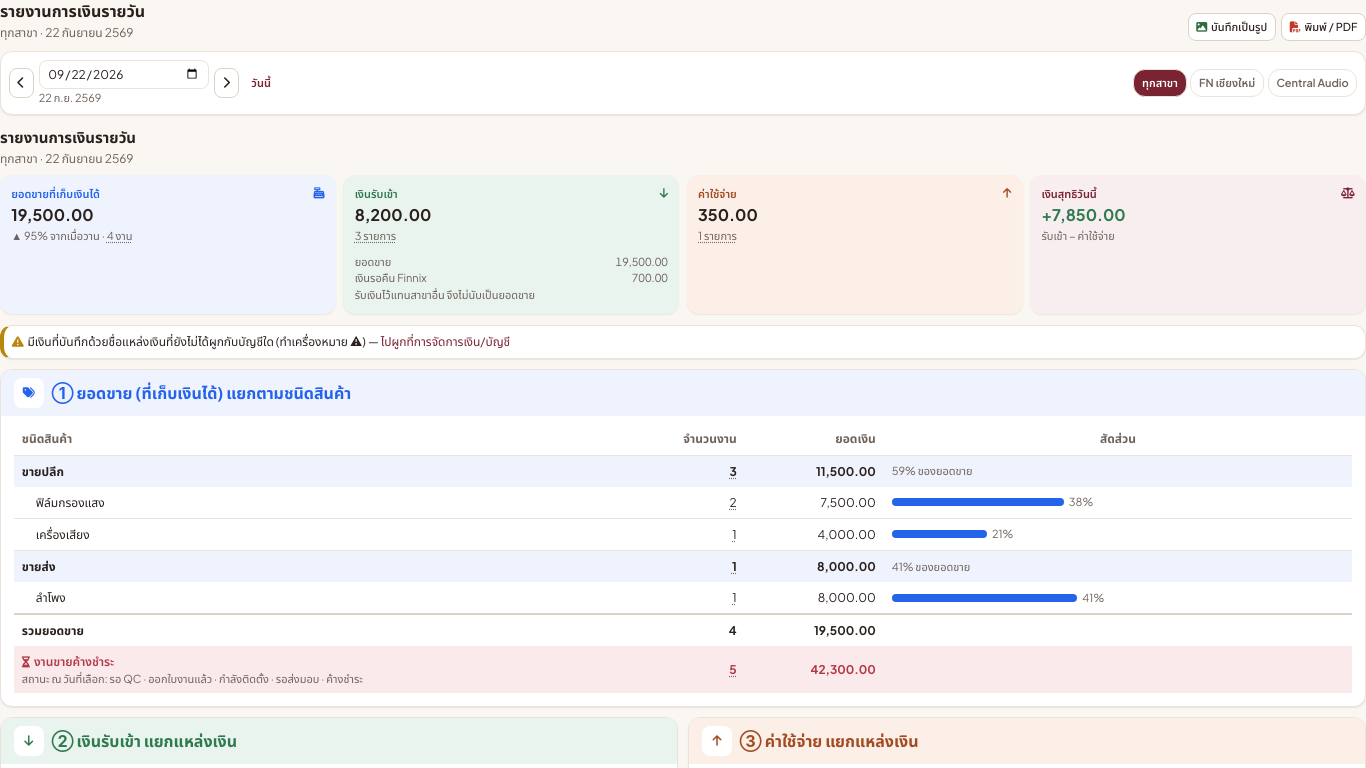
Test: DailyReportView — ที่มาของจำนวน › ป๊อปอัพไม่ติดไปในรูปที่แคป
The width and height of the screenshot is (1366, 768).
Click the button with aria-label "ดูที่มาของ4 งาน": (120, 236) [107,228,133,244]
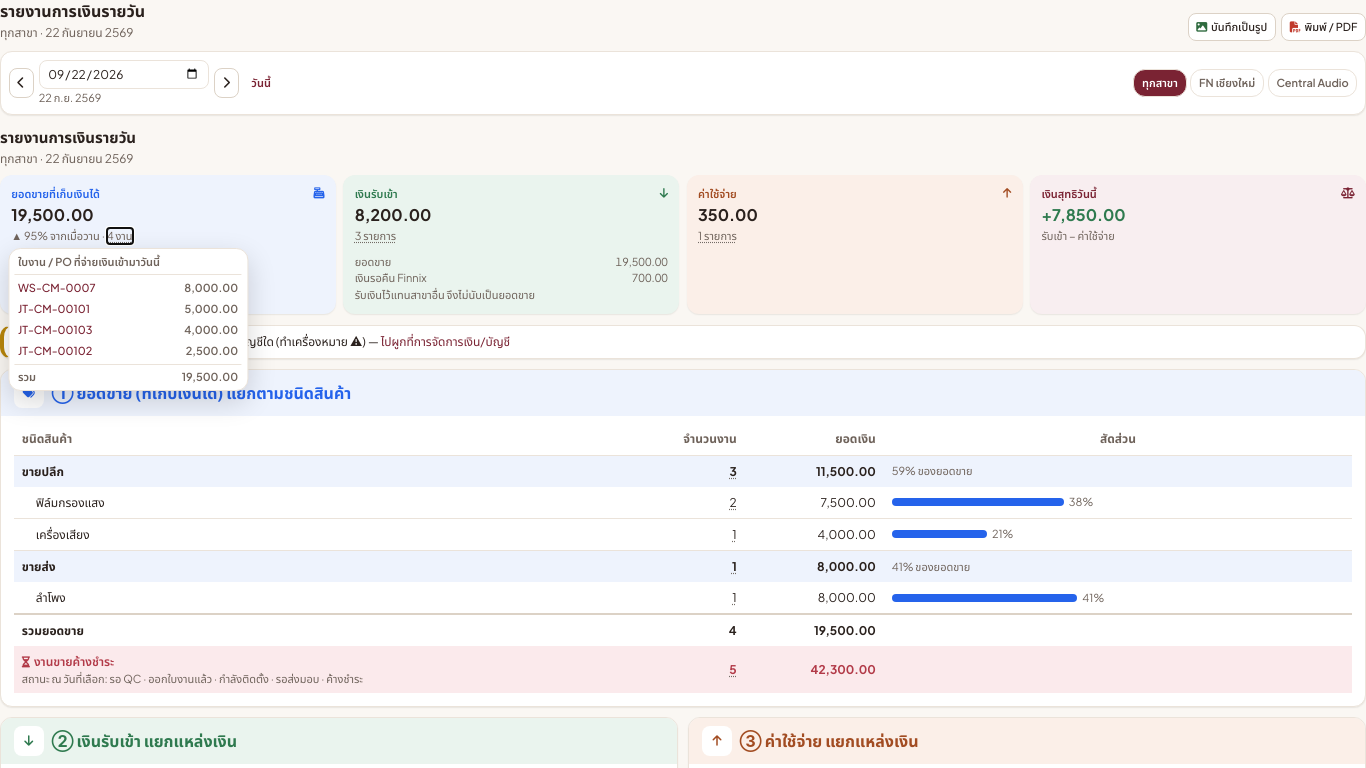
Expected: the dialog is shown, [8,248,248,391]
